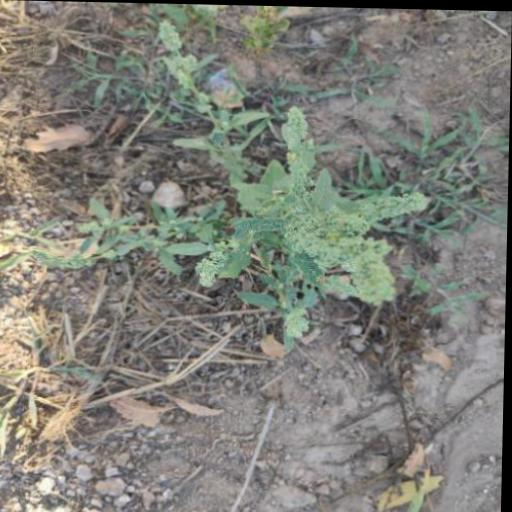weed: (75, 55, 428, 350)
